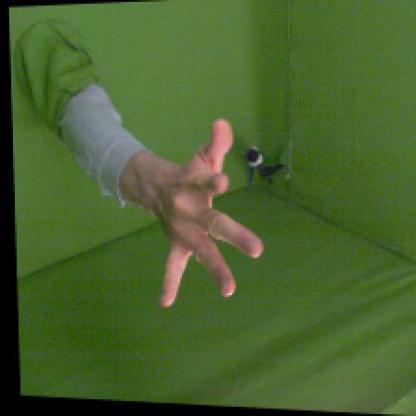Hand: (158, 119, 263, 310)
